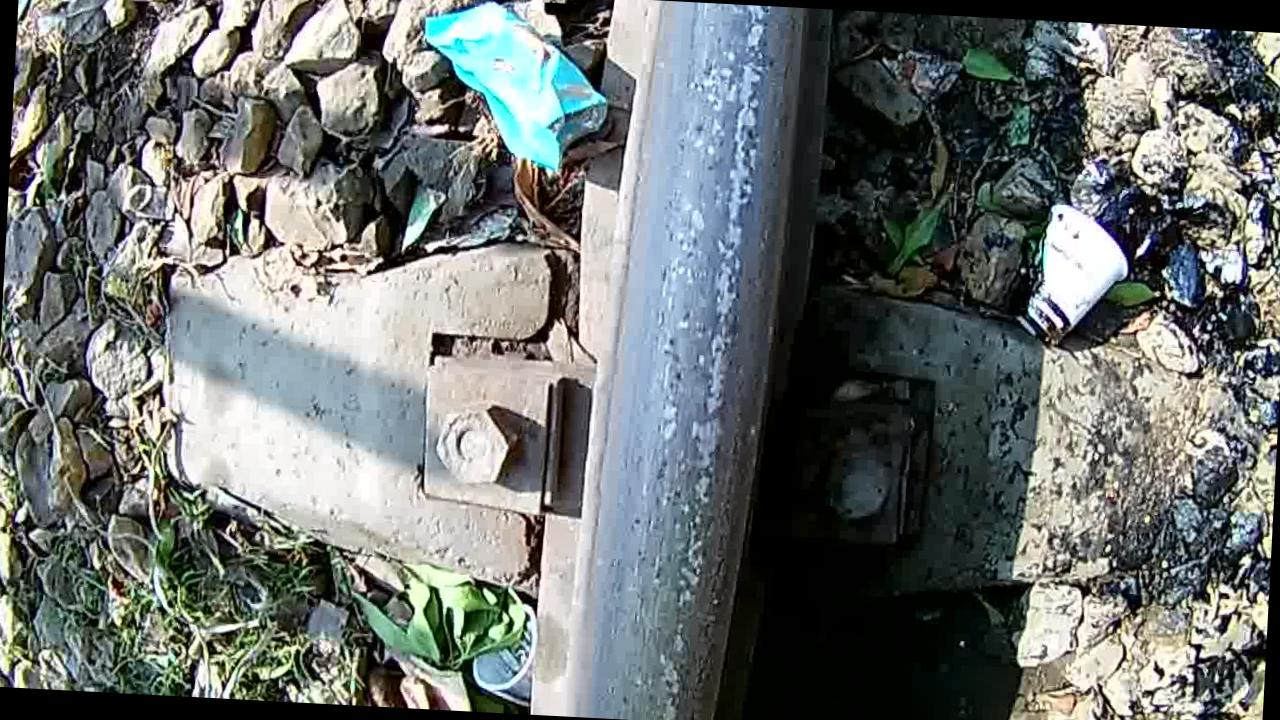clip_missing: (557, 0, 833, 720)
